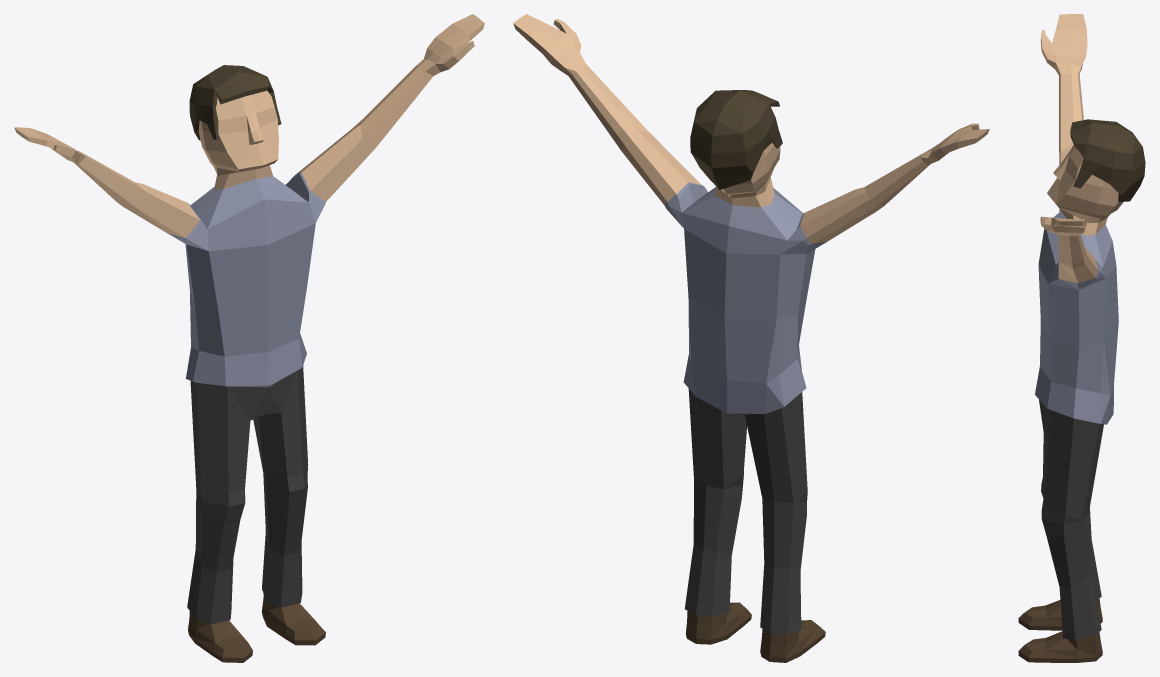
File: Male_Crowd_VArms.glb
The picture shows the model from 3 angles, left to right: view 1: azimuth 30°, elevation 25°; view 2: azimuth 150°, elevation 25°; view 3: azimuth 270°, elevation 25°; orthographic projection. The views are drawn at different scales.
Parts seen in each view (by area): view 1: Male_Crowd_VArms; view 2: Male_Crowd_VArms; view 3: Male_Crowd_VArms.
Part boxes in pixels (<box>): Male_Crowd_VArms: <box>14,14,484,662</box>; Male_Crowd_VArms: <box>513,14,989,662</box>; Male_Crowd_VArms: <box>1018,14,1145,662</box>.
Bounding box in the file's own units: 1.55 × 1.81 × 0.3993.
